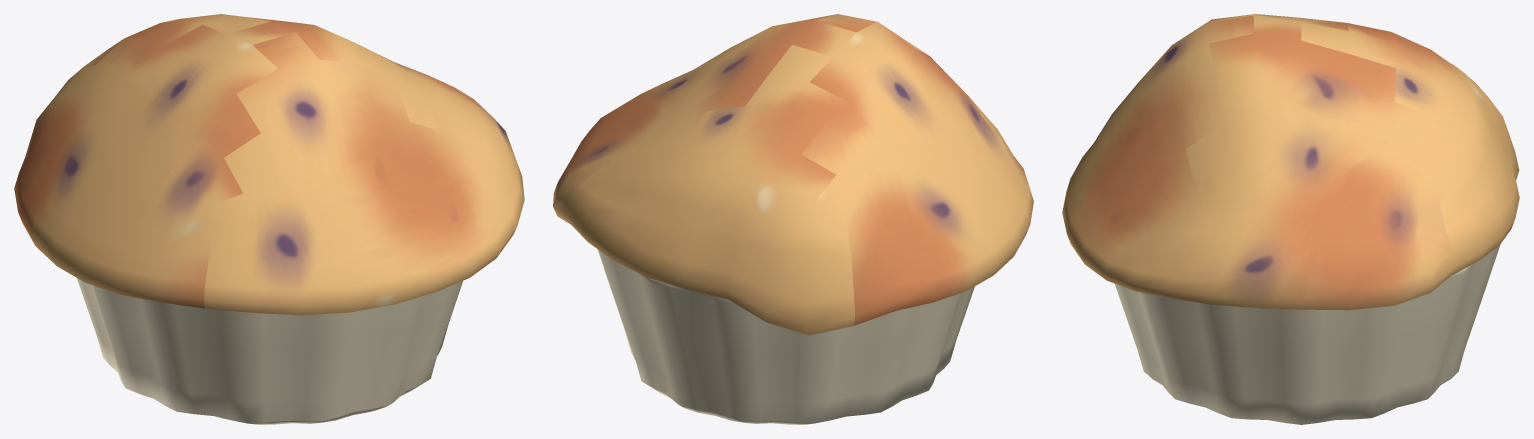
Rendered from Muffin.fbx.
The picture shows the model from 3 angles, left to right: view 1: azimuth 30°, elevation 25°; view 2: azimuth 150°, elevation 25°; view 3: azimuth 270°, elevation 25°; orthographic projection. The views are drawn at different scales.
Parts seen in each view (by area): view 1: muffintop, PaperBottom; view 2: muffintop, PaperBottom; view 3: muffintop, PaperBottom.
Boxes of the visible parts, x1=… form: muffintop: x1=14, y1=14, x2=524, y2=315; PaperBottom: x1=77, y1=278, x2=462, y2=424; muffintop: x1=553, y1=14, x2=1033, y2=335; PaperBottom: x1=597, y1=249, x2=974, y2=424; muffintop: x1=1062, y1=14, x2=1519, y2=310; PaperBottom: x1=1115, y1=244, x2=1500, y2=424.
Size of the model in its own units: 0.8179 by 0.6181 by 0.7821.
1 material, 1 textured.
